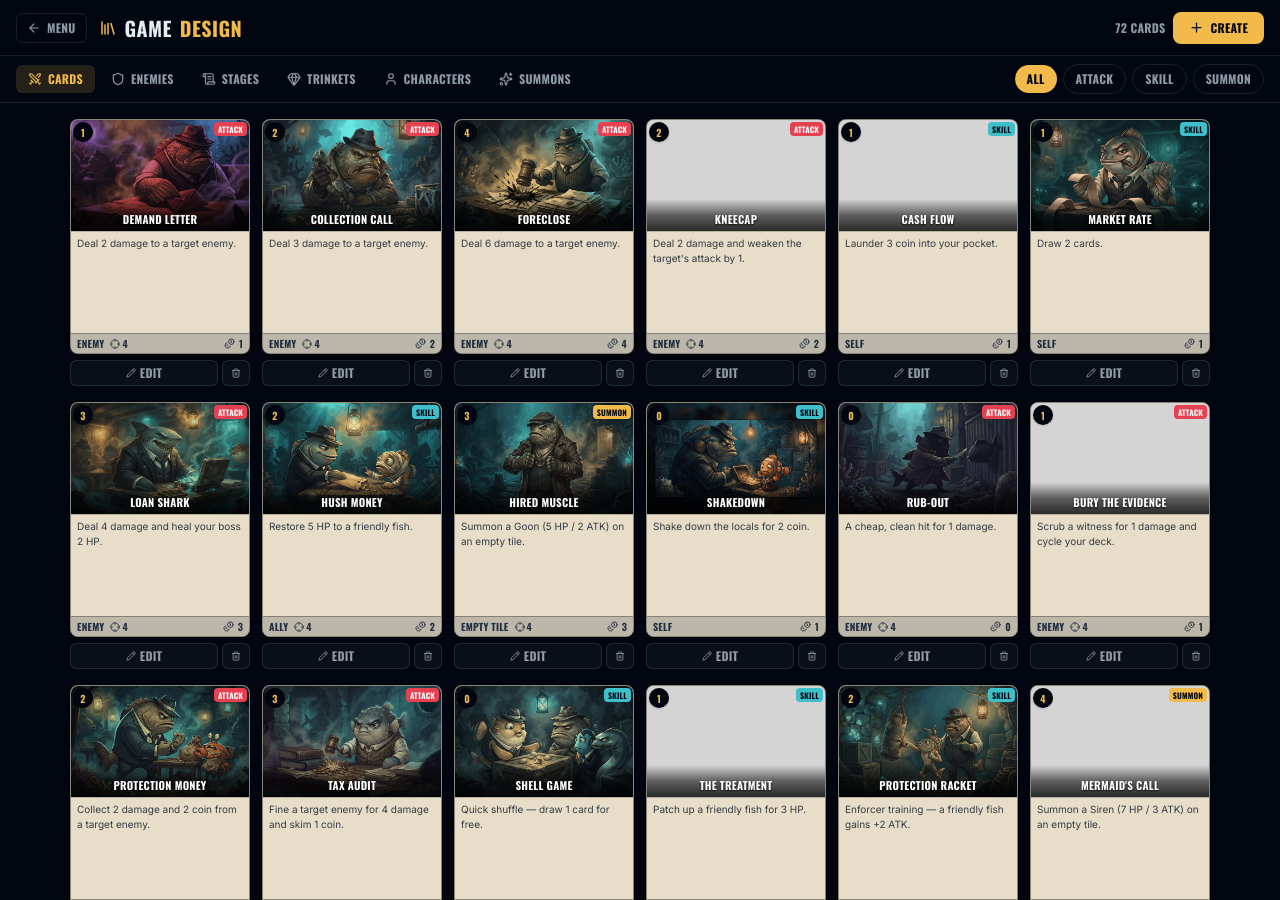
Test: CardLibraryScreen › switches subtabs and shows enemy library / stage placeholder
Check: the heading "Demand Letter" is shown, box top-left (123, 211), bottom-right (197, 227)
Check: the button "Create" is shown, box top-left (1174, 12), bottom-right (1264, 44)
What coordinates should you click on to do the following:
click the button "Enemies"
I would click on:
 (142, 79)
Its box is top-left (99, 65), bottom-right (186, 93).
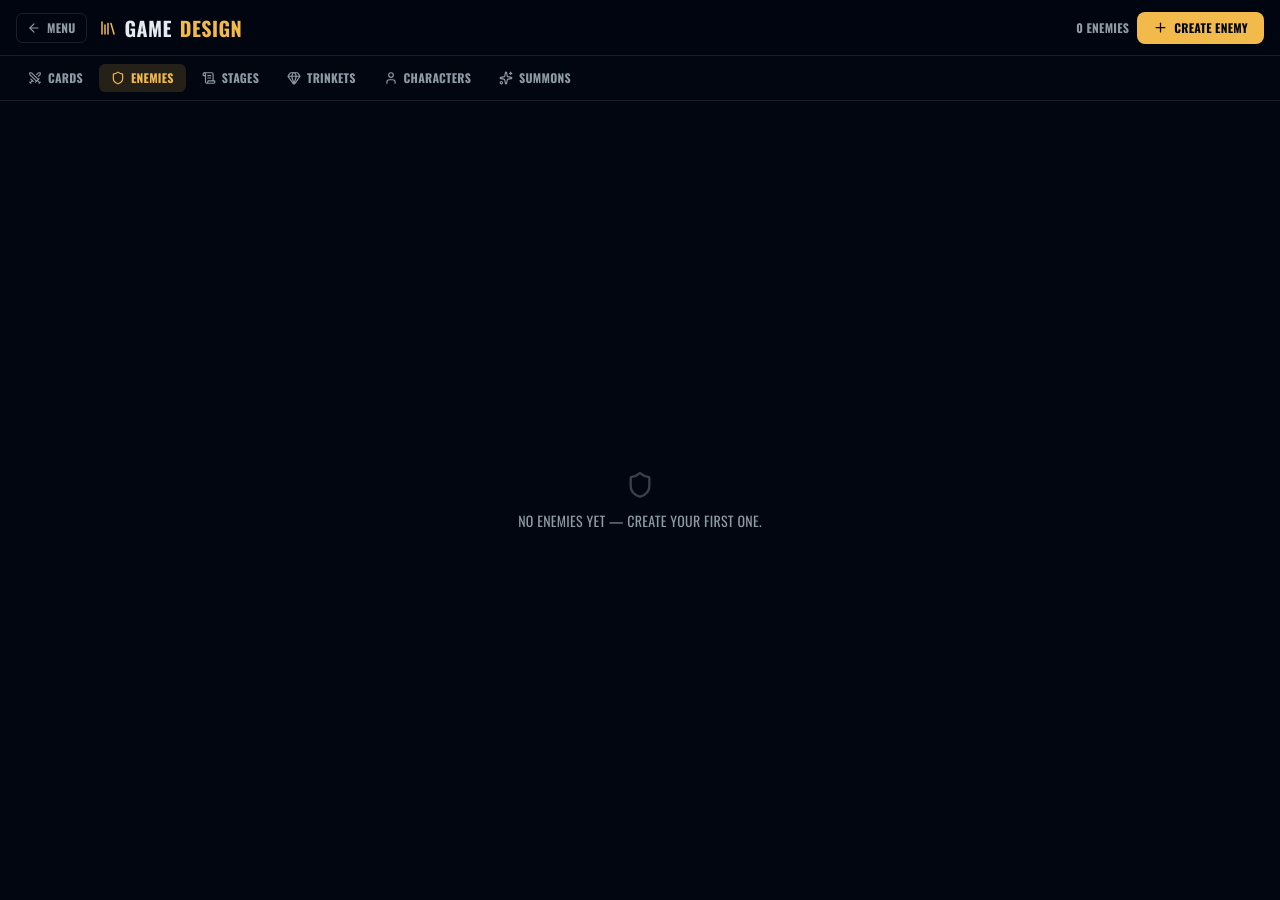
Check: the heading "Demand Letter" is gone
Check: the text "No enemies yet — create your first one." is shown, box top-left (518, 510), bottom-right (762, 530)
Check: the button "Create Enemy" is shown, box top-left (1137, 12), bottom-right (1264, 44)
What coordinates should you click on to do the following:
click the button "Stages"
I would click on:
 (230, 78)
Its box is top-left (190, 64), bottom-right (271, 92).
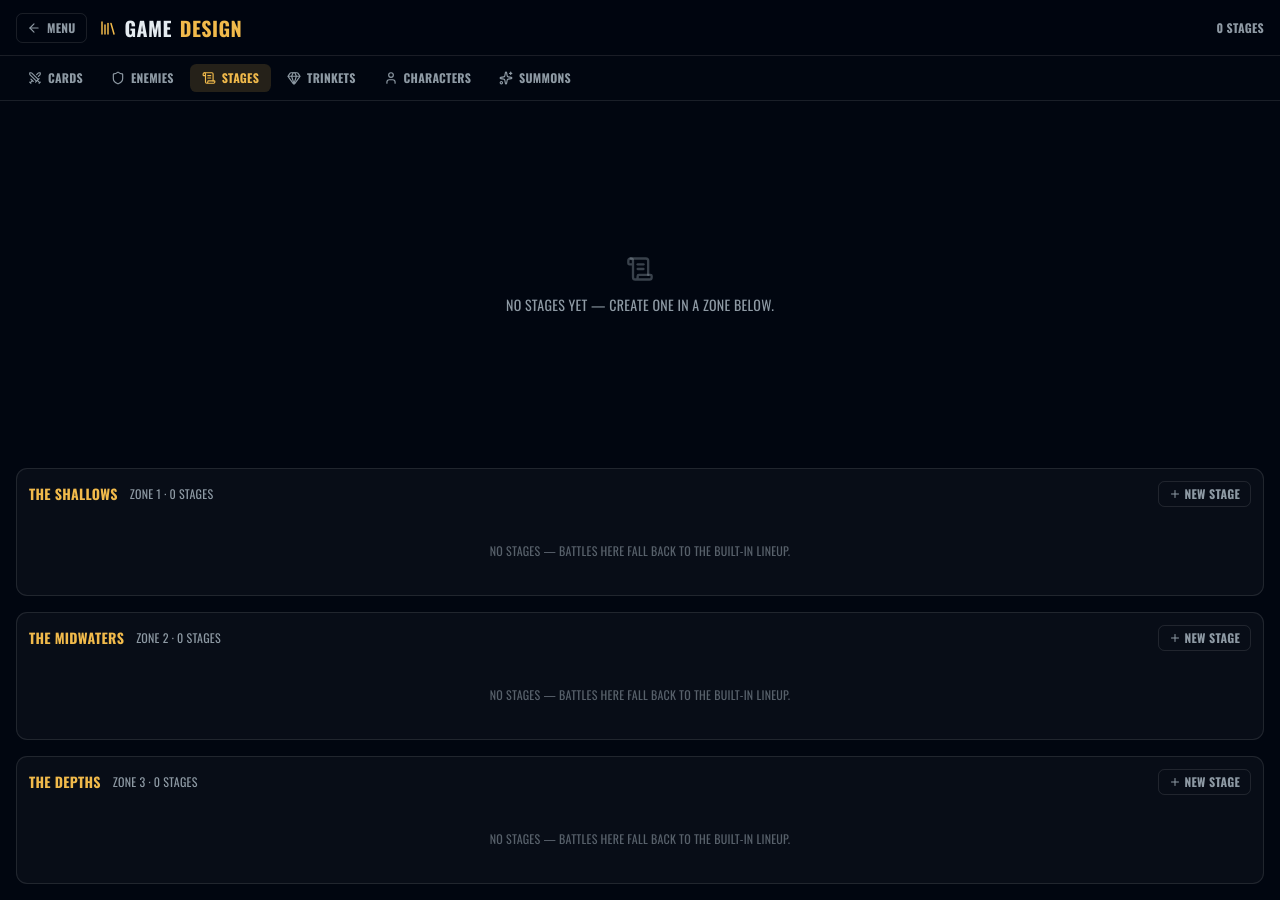
Check: the text "No stages yet — create one in a zone below." is shown, box top-left (506, 294), bottom-right (774, 314)
Check: the heading "The Shallows" is shown, box top-left (29, 484), bottom-right (118, 504)
What coordinates should you click on to do the following:
click the button "Cards"
I would click on:
 (56, 78)
Its box is top-left (16, 64), bottom-right (95, 92).
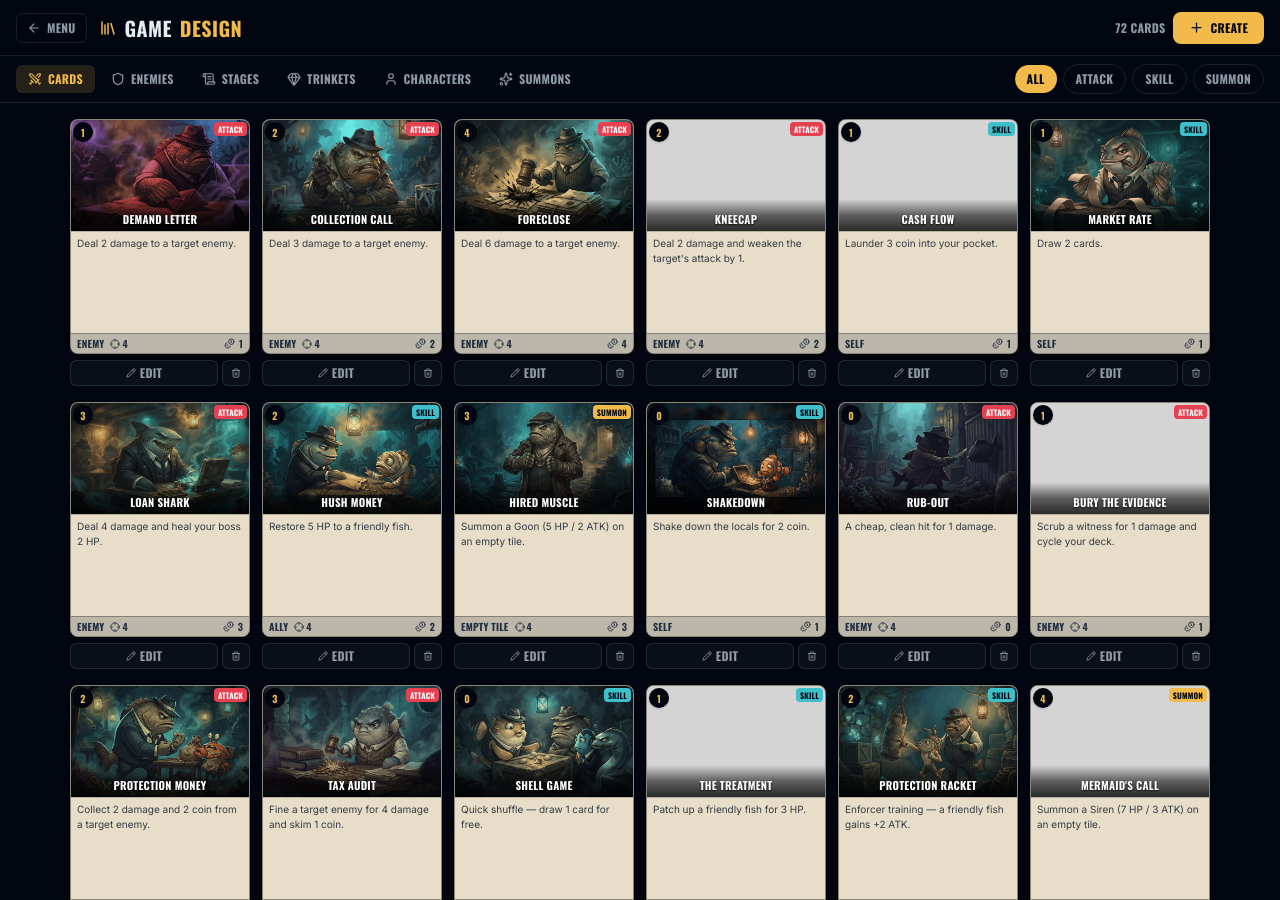
Check: the heading "Demand Letter" is shown, box top-left (123, 211), bottom-right (197, 227)
